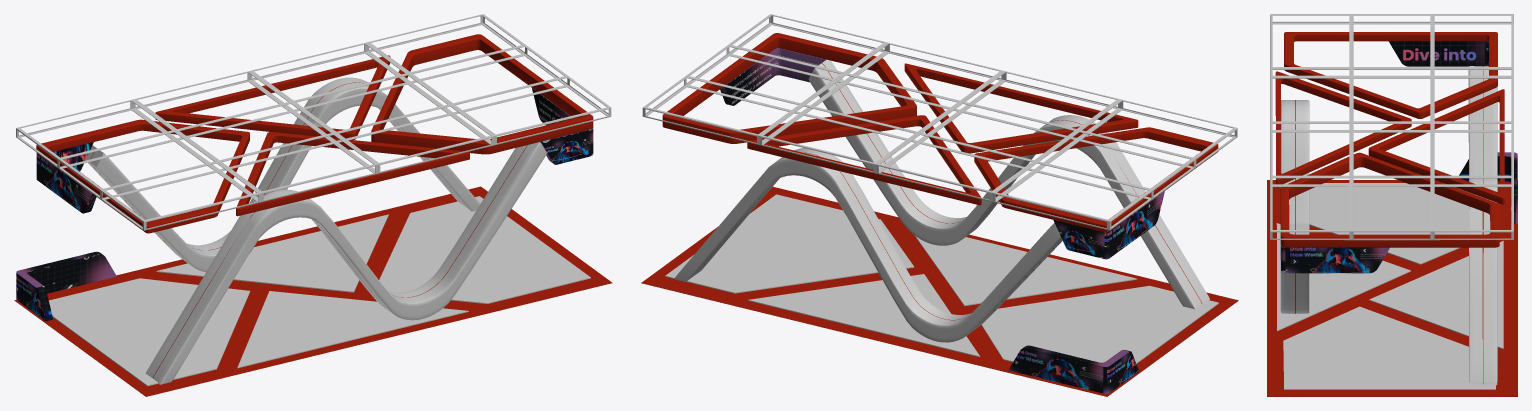
3 renders of one model, left to right at view 1: azimuth 30°, elevation 25°; view 2: azimuth 150°, elevation 25°; view 3: azimuth 270°, elevation 25°, orthographic. The views are drawn at different scales.
Visible parts, largest first — view 1: Cube.001, Куб.060, Cube, Куб.059, Cube.009, Cube.005, Cube.007, Cube.006, Cube.004, Cube.010, Cube.003, Cube.002; view 2: Cube.001, Куб.060, Куб.059, Cube.009, Cube, Cube.005, Cube.004, Cube.007, Cube.006, Cube.010, Cube.003, Cube.002; view 3: Cube.001, Куб.059, Куб.060, Cube.009, Cube.005, Cube.004, Cube, Cube.006, Cube.007, Cube.002, Cube.003, Cube.010.
Boxes of the visible parts, box(x1,y1,x2,y2) form: Cube.001: box(48, 196, 590, 386); Куб.060: box(16, 14, 611, 230); Cube: box(145, 142, 546, 384); Куб.059: box(14, 186, 612, 396); Cube.009: box(85, 77, 480, 272); Cube.005: box(371, 34, 593, 154); Cube.007: box(155, 55, 390, 139); Cube.006: box(236, 132, 469, 216); Cube.004: box(36, 119, 249, 233); Cube.010: box(16, 251, 116, 321); Cube.003: box(36, 142, 96, 213); Cube.002: box(532, 88, 593, 164); Cube.001: box(665, 194, 1218, 363); Куб.060: box(642, 14, 1237, 230); Куб.059: box(641, 187, 1238, 396); Cube.009: box(674, 148, 1062, 342); Cube: box(808, 59, 1209, 309); Cube.005: box(662, 33, 916, 143); Cube.004: box(974, 127, 1218, 232); Cube.007: box(747, 115, 981, 205); Cube.006: box(904, 63, 1138, 153); Cube.010: box(1008, 345, 1138, 393); Cube.003: box(1053, 191, 1164, 259); Cube.002: box(720, 48, 825, 105); Cube.001: box(1276, 183, 1503, 389); Куб.059: box(1267, 180, 1517, 396); Куб.060: box(1270, 14, 1513, 240); Cube.009: box(1468, 66, 1497, 385); Cube.005: box(1280, 152, 1499, 247); Cube.004: box(1284, 32, 1497, 118); Cube: box(1280, 100, 1309, 313); Cube.006: box(1275, 71, 1411, 184); Cube.007: box(1368, 89, 1504, 204); Cube.002: box(1280, 232, 1389, 273); Cube.003: box(1389, 41, 1488, 66); Cube.010: box(1459, 152, 1517, 223).
Size of the model in its own units: 122 by 43.36 by 59.4.
